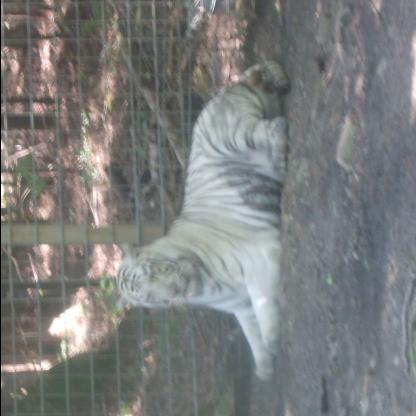tiger: (116, 244, 204, 314)
